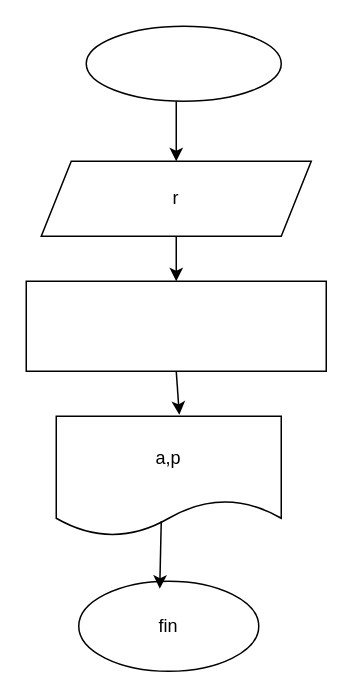
Image size: 353x698. Some labels were removed from this diagram. Here are the shapes that lost their labels. From the top down, the centre of each, then its label:
At (183,63): "inicio".
At (175,325): "a= πr 2 p=2 πr".
